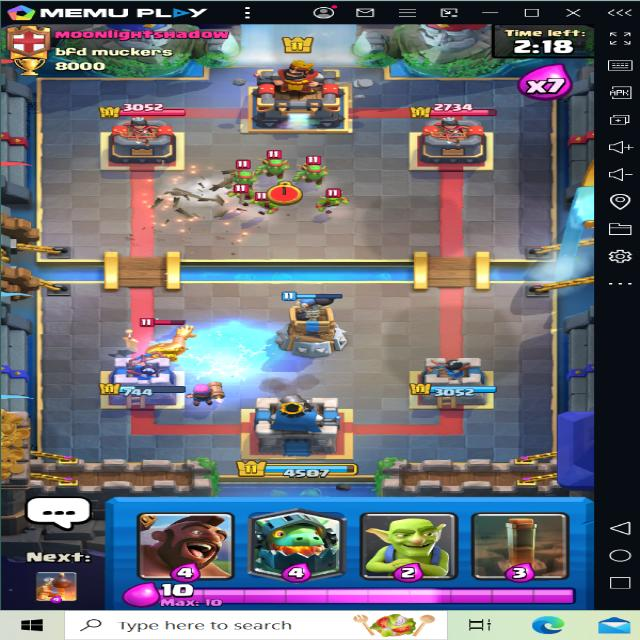Goblin: (313, 184, 349, 217), (248, 188, 283, 217), (228, 179, 258, 208)
Goldenknight: (125, 318, 211, 362)
Goldenknightability: (124, 310, 216, 363)
Speargoblin: (260, 146, 298, 180), (222, 158, 262, 188), (295, 156, 334, 186)
